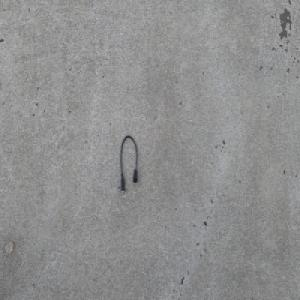Wire: (119, 133, 138, 193)
